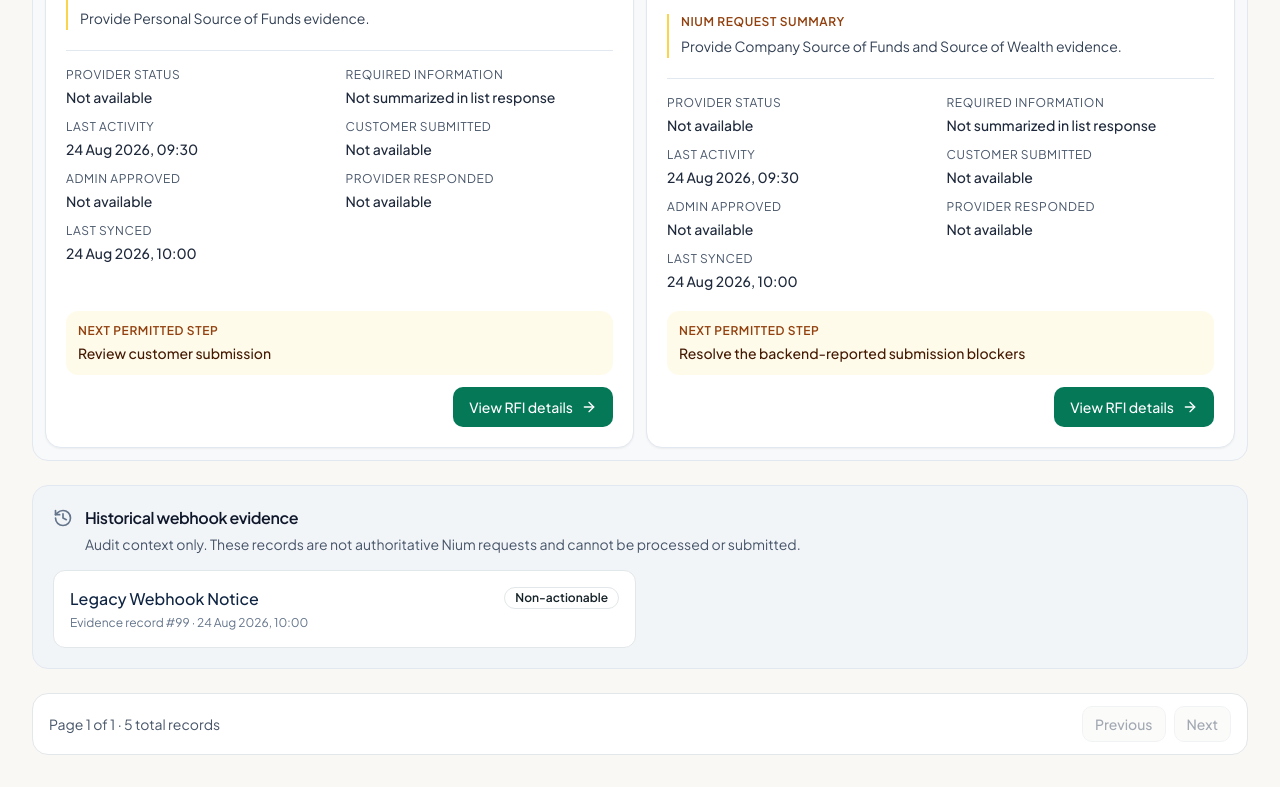
blocks submission when backend eligibility is false
(page scrolled)
Click the 2nd button "View RFI details" at {"x": 1134, "y": 407}, box [1054,387,1214,427]
(page scrolled)
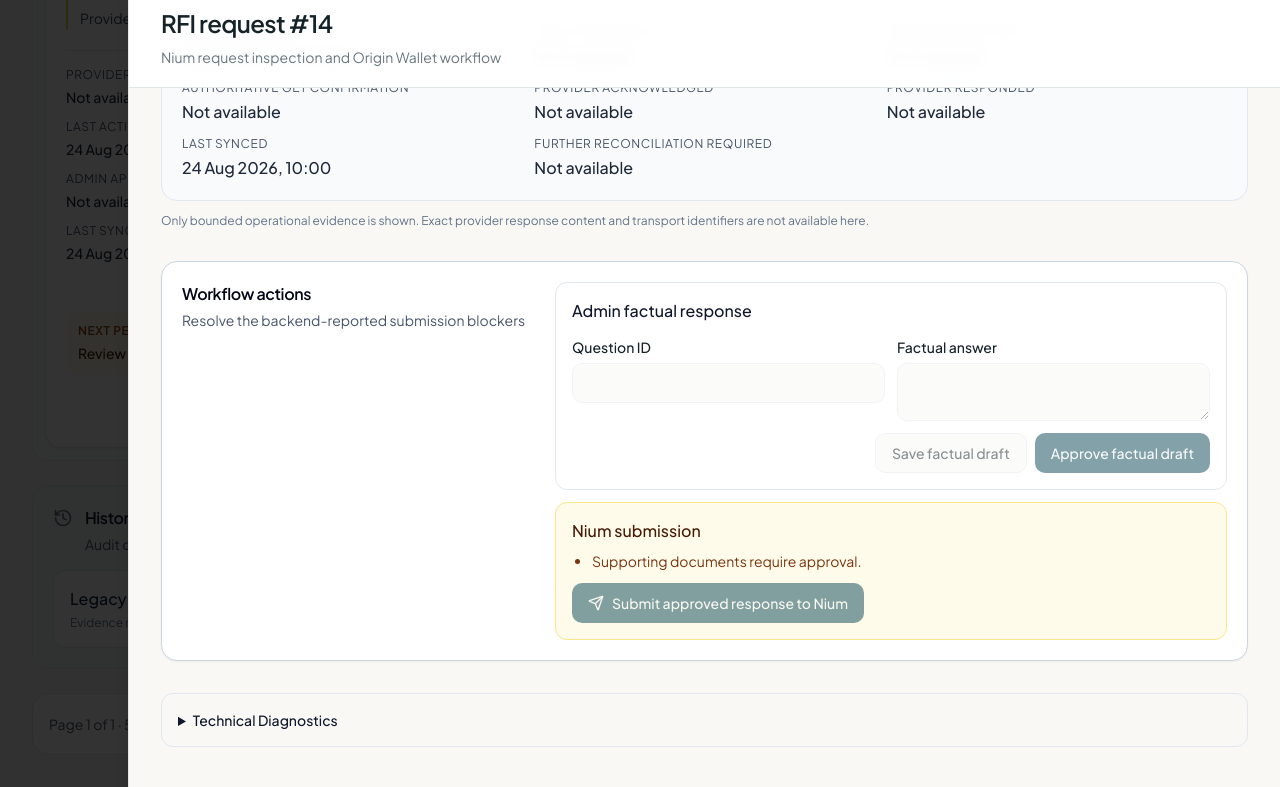
Check: the list item "Supporting documents require approval." is shown, box [592,552,861,570]
Check: the button "Submit approved response to Nium" is disabled, box [572,583,864,623]
